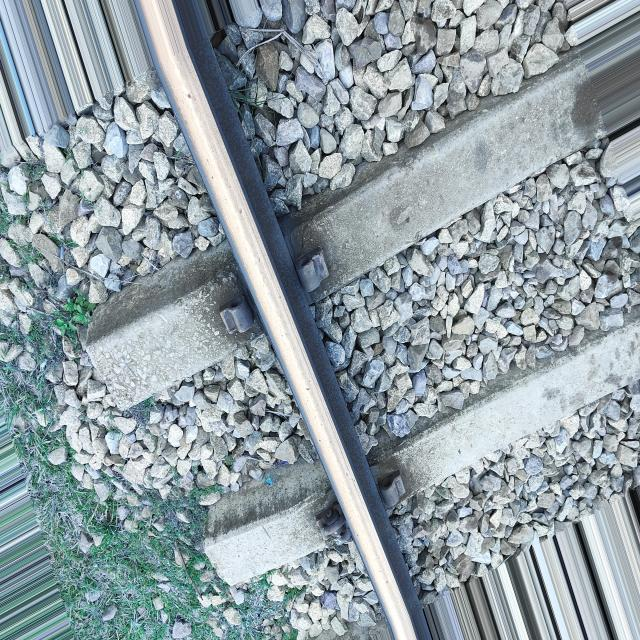Good Fasteners: (313, 507, 349, 546)
Missing Fastener: (292, 250, 336, 305), (214, 290, 256, 340), (377, 471, 413, 513)
